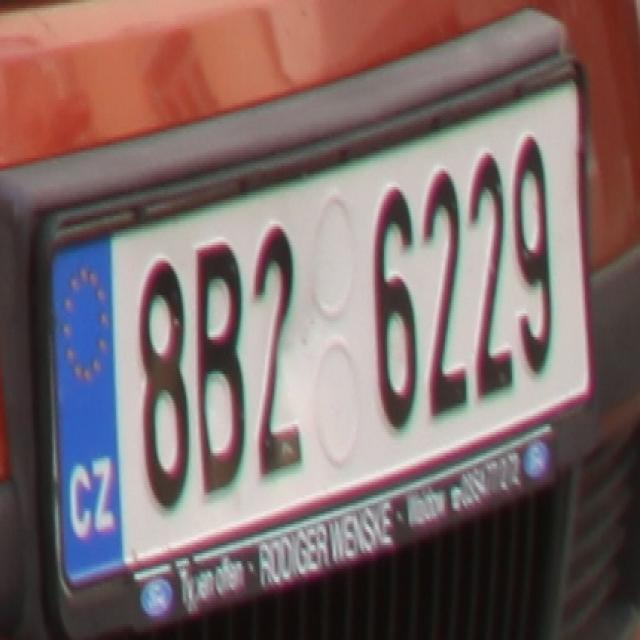2: (464, 145, 518, 403), (420, 163, 470, 419), (252, 218, 302, 468)
6: (369, 184, 420, 430)
8: (135, 256, 192, 508)
9: (509, 124, 557, 379)
B: (190, 237, 246, 493)
